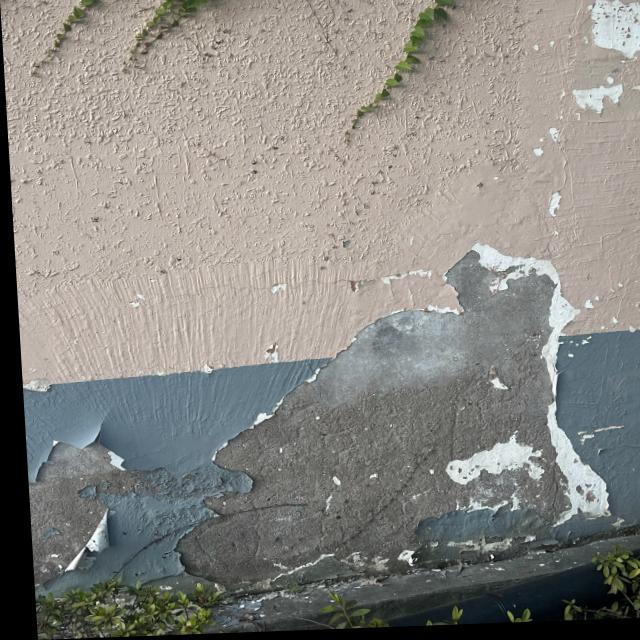spalling: (147, 232, 640, 598), (33, 403, 157, 596)
